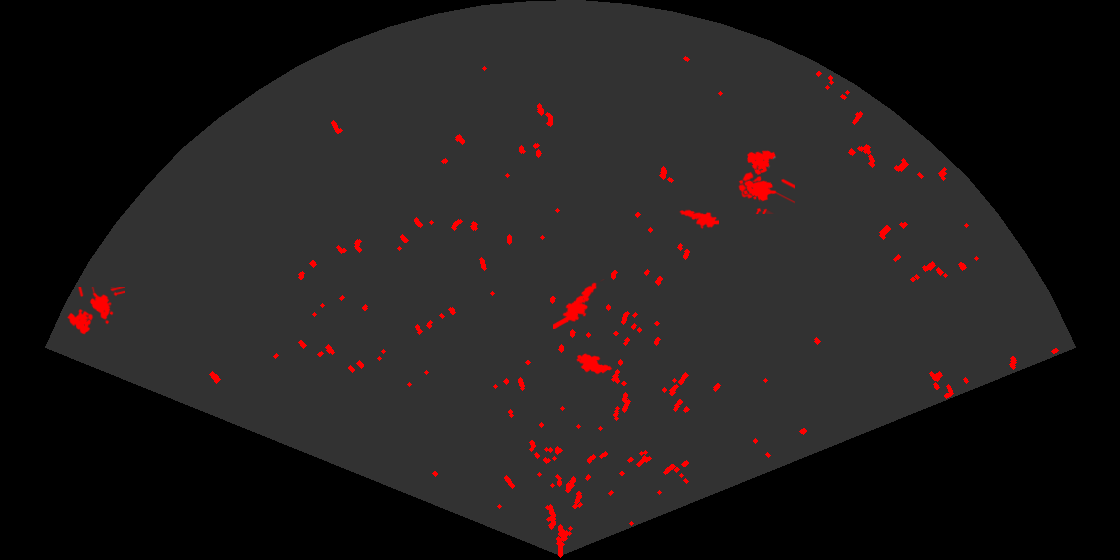AUV: (575, 352, 614, 376)
ball: (737, 170, 772, 203)
cage: (737, 149, 795, 214), (65, 287, 125, 336)
frogman: (553, 279, 606, 329), (679, 208, 719, 231)
